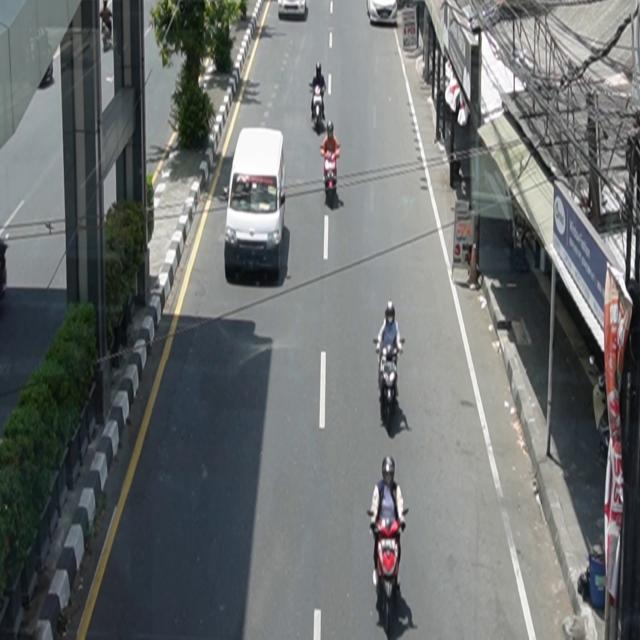bus: (225, 127, 287, 280)
car: (367, 1, 399, 26), (278, 1, 308, 19)
